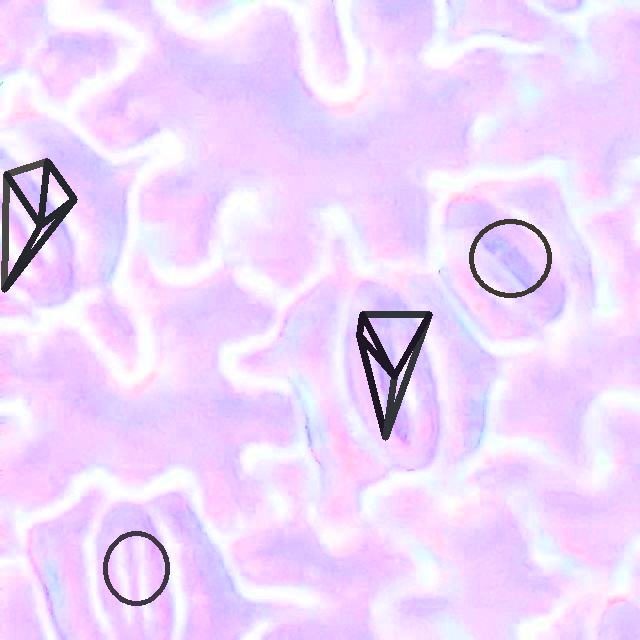open: (3, 158, 77, 292), (356, 311, 432, 440), (467, 217, 552, 298), (102, 530, 171, 605)
